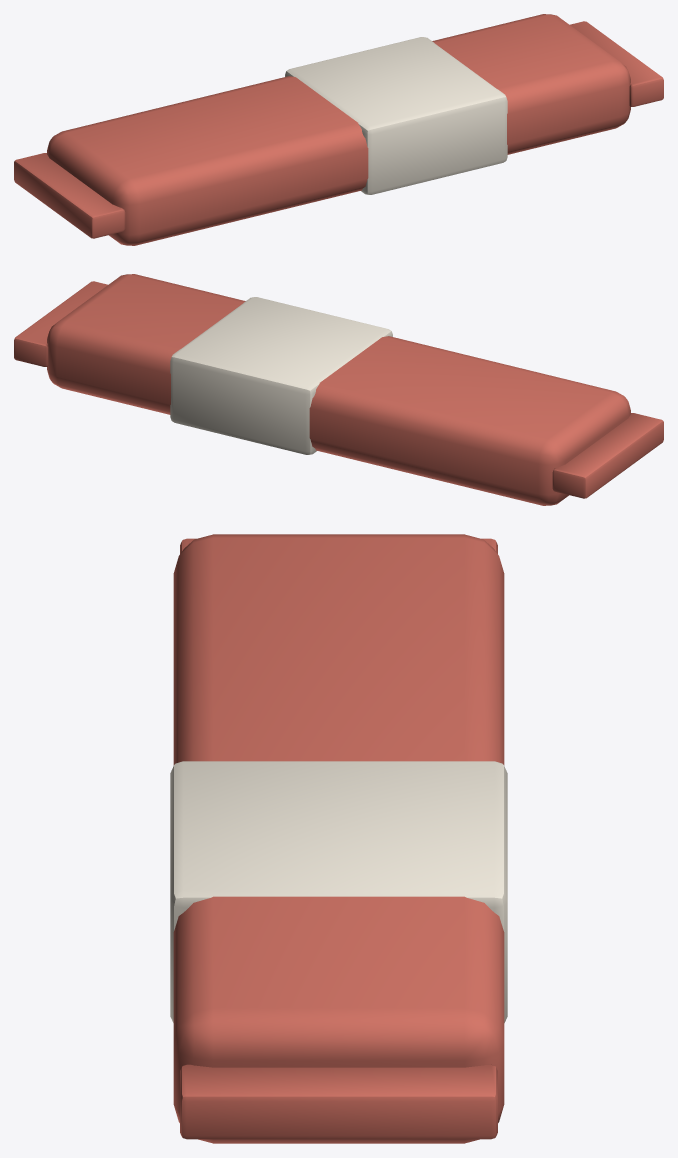
The model's file is nd_chocolate.glb.
3 views of the same model, one above another, from view 1: azimuth 30°, elevation 25°; view 2: azimuth 150°, elevation 25°; view 3: azimuth 270°, elevation 25° (orthographic). The views are drawn at different scales.
Visible parts, largest first — view 1: PART; view 2: PART; view 3: PART.
Boxes of the visible parts, x1,y1,x2,y2 form: PART: [14, 14, 663, 245]; PART: [14, 274, 663, 505]; PART: [170, 534, 507, 1143].
Bounding box in the file's own units: 0.2 × 0.023 × 0.051.
